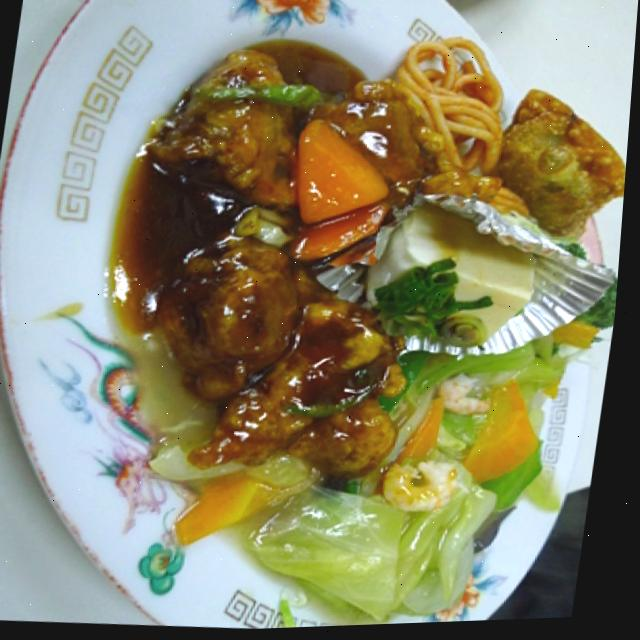猪肉菜式: (76, 19, 446, 562)
